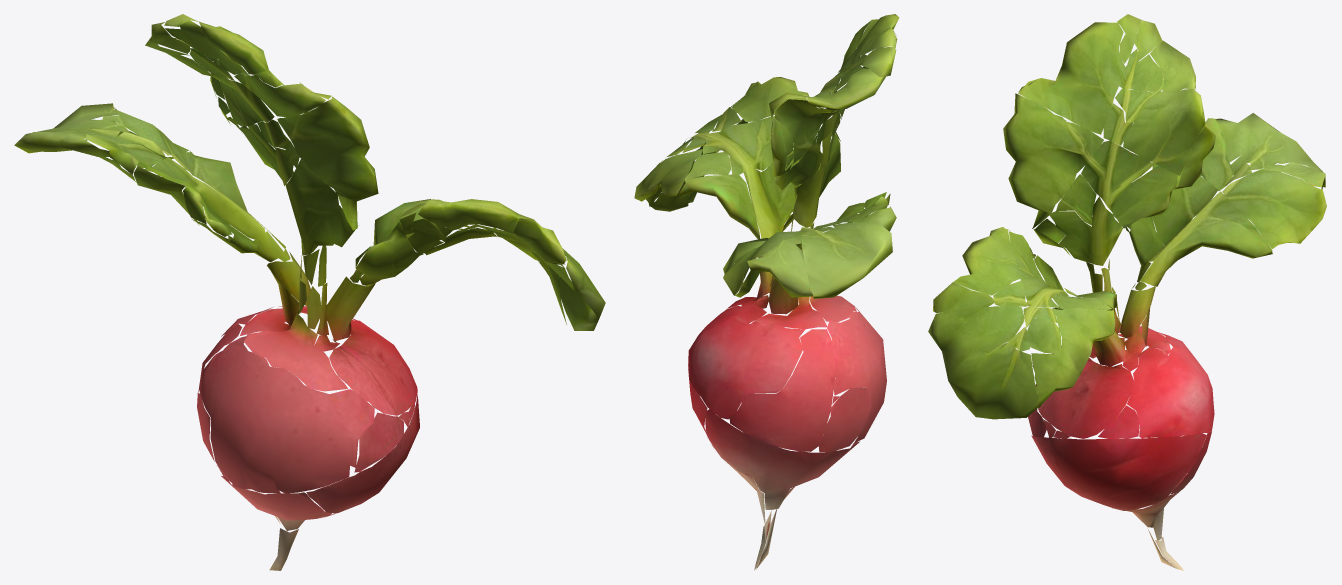
Rendered from crop-radish-mature.glb.
3 views of the same model, side by side, from view 1: azimuth 30°, elevation 25°; view 2: azimuth 150°, elevation 25°; view 3: azimuth 270°, elevation 25° (orthographic). The views are drawn at different scales.
Parts seen in each view (by area): view 1: crop-radish-mature; view 2: crop-radish-mature; view 3: crop-radish-mature.
Boxes of the visible parts, x1,y1,x2,y2 form: crop-radish-mature: (14,14,605,570); crop-radish-mature: (634,14,899,570); crop-radish-mature: (928,14,1326,570).
Bounding box in the file's own units: 0.4081 × 0.5796 × 0.4133.
Materials: 1 (1 with a texture image).
